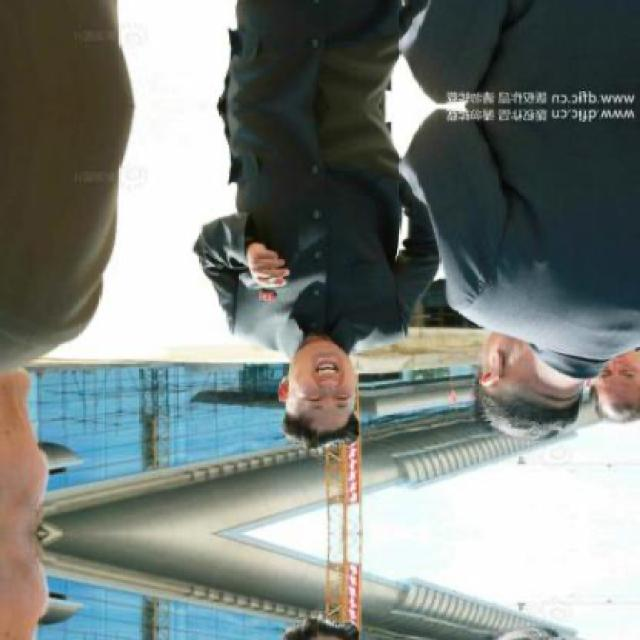sin casco: (266, 345, 380, 460), (447, 344, 588, 433)
